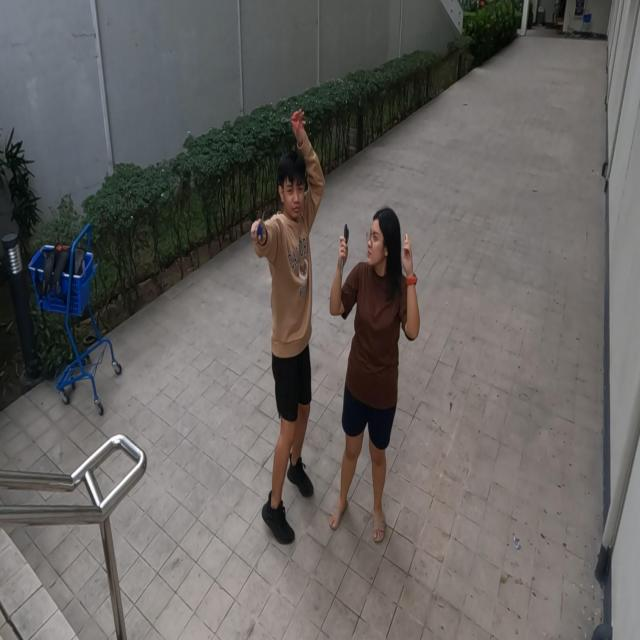scissor: (339, 220, 351, 276), (280, 107, 304, 132), (256, 205, 267, 245)
